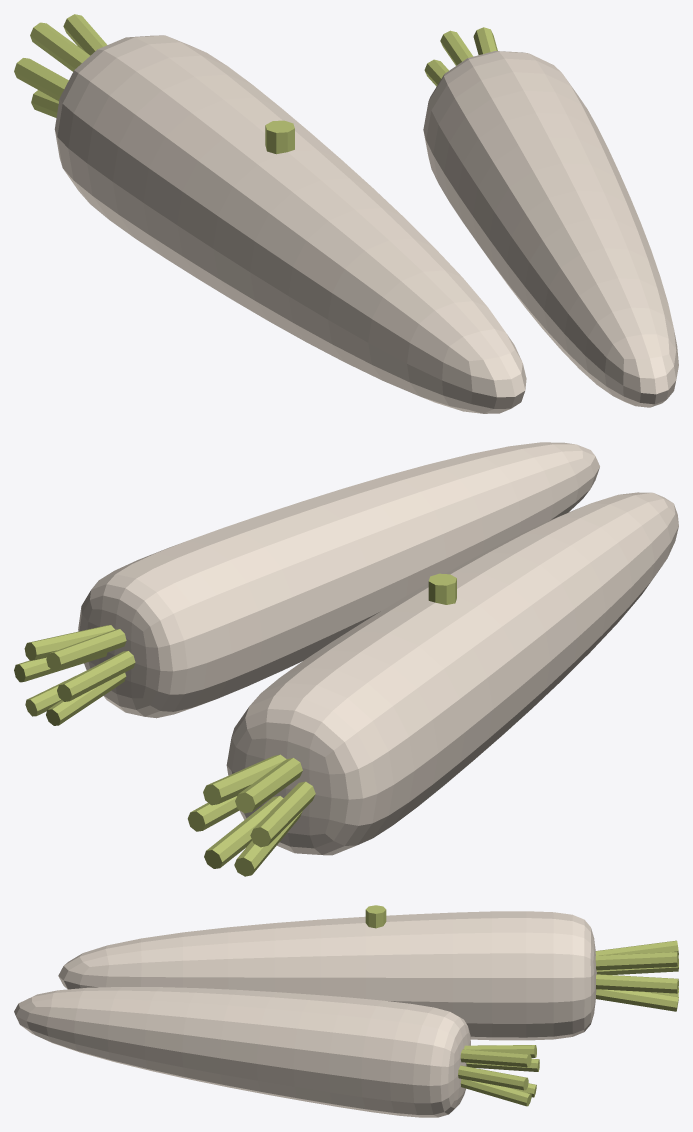
File: Radish (General).fbx
The picture shows the model from 3 angles, top to bottom: view 1: azimuth 30°, elevation 25°; view 2: azimuth 150°, elevation 25°; view 3: azimuth 270°, elevation 25°; orthographic projection. The views are drawn at different scales.
Parts seen in each view (by area): view 1: Radish (General); view 2: Radish (General); view 3: Radish (General).
Part boxes in pixels (left/top/right/bottom): Radish (General): left=14, top=14, right=678, bottom=413; Radish (General): left=14, top=442, right=678, bottom=876; Radish (General): left=14, top=905, right=678, bottom=1117.
Bounding box in the file's own units: 22.32 × 9.33 × 45.27.
